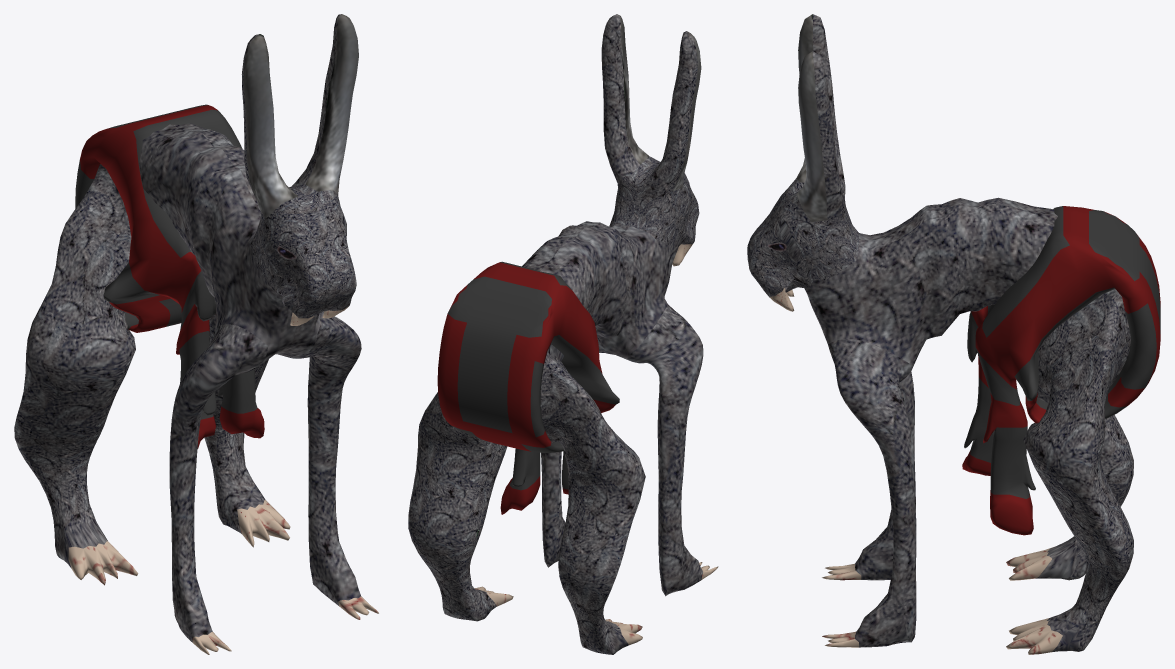
The model's file is EvilBunny_Ver1.FBX.
3 renders of one model, left to right at view 1: azimuth 30°, elevation 25°; view 2: azimuth 150°, elevation 25°; view 3: azimuth 270°, elevation 25°, orthographic. The views are drawn at different scales.
Parts seen in each view (by area): view 1: EvilBunny, Clothing; view 2: EvilBunny, Clothing; view 3: EvilBunny, Clothing.
Part boxes in pixels (<box>): EvilBunny: <box>14,14,378,654</box>; Clothing: <box>75,104,264,448</box>; EvilBunny: <box>408,14,718,654</box>; Clothing: <box>437,261,619,514</box>; EvilBunny: <box>747,14,1133,654</box>; Clothing: <box>962,206,1160,535</box>.
Size of the model in its own units: 2.02 by 4.6 by 2.98.
3 materials, 1 textured.
